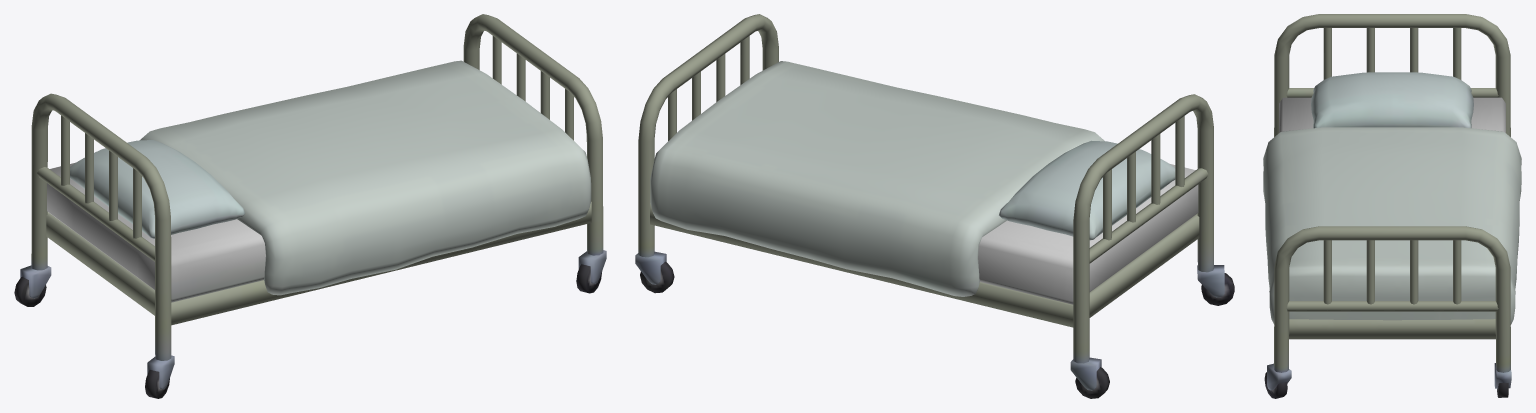
3 views of the same model, side by side, from view 1: azimuth 30°, elevation 25°; view 2: azimuth 150°, elevation 25°; view 3: azimuth 270°, elevation 25° (orthographic). The views are drawn at different scales.
Size of the model in its own units: 18.64 by 8.4 by 9.97.
1 material, 1 textured.
